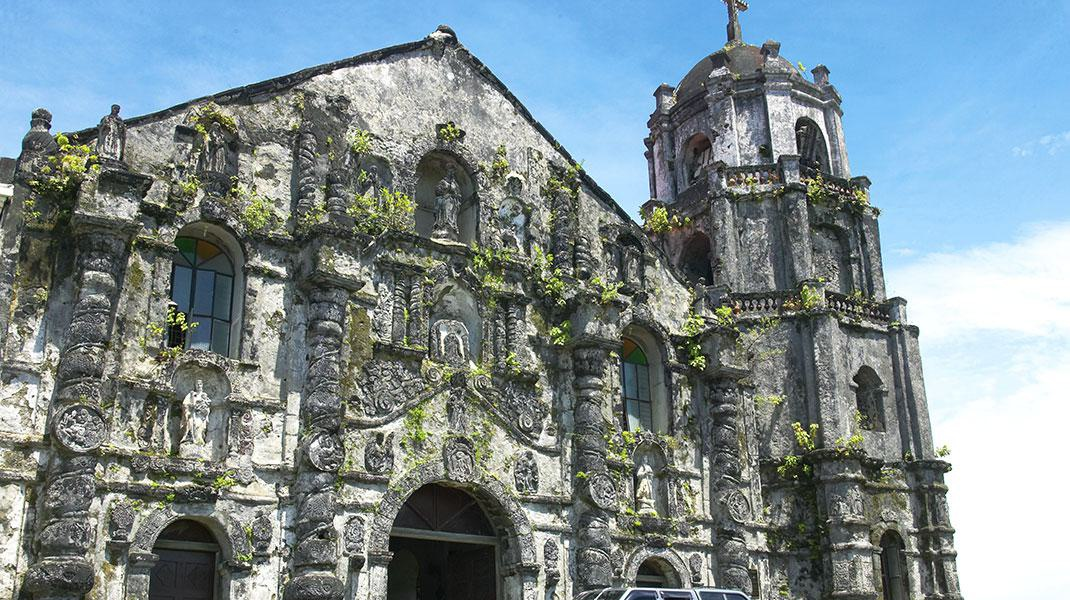daraga_church_daraga_albay: (1, 1, 960, 600)
vegetation_damage: (351, 189, 420, 241), (468, 250, 517, 308), (778, 423, 826, 478), (43, 142, 102, 178), (227, 190, 272, 236), (780, 287, 831, 319), (639, 204, 679, 241), (796, 170, 829, 208), (850, 188, 870, 210)
